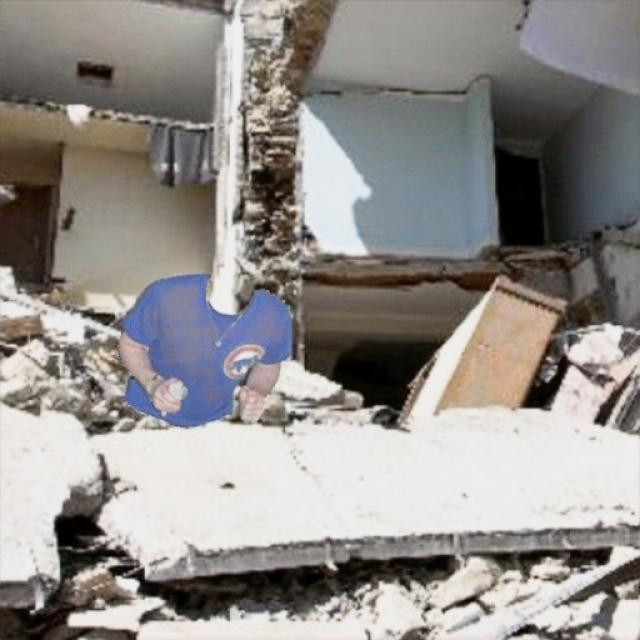Person in Rubble: (118, 274, 292, 428)
